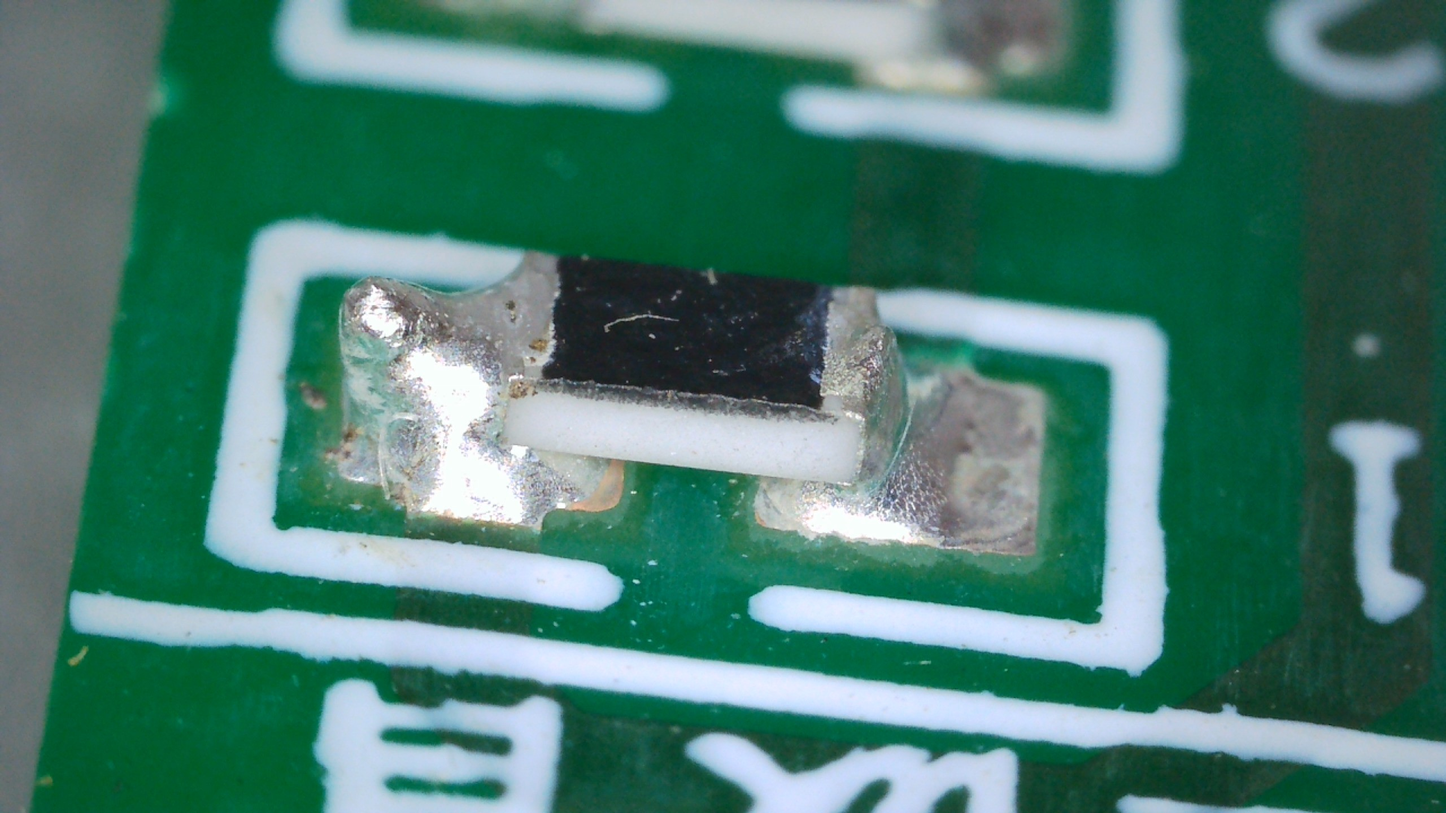NG: (337, 277, 613, 530), (806, 289, 951, 536)
